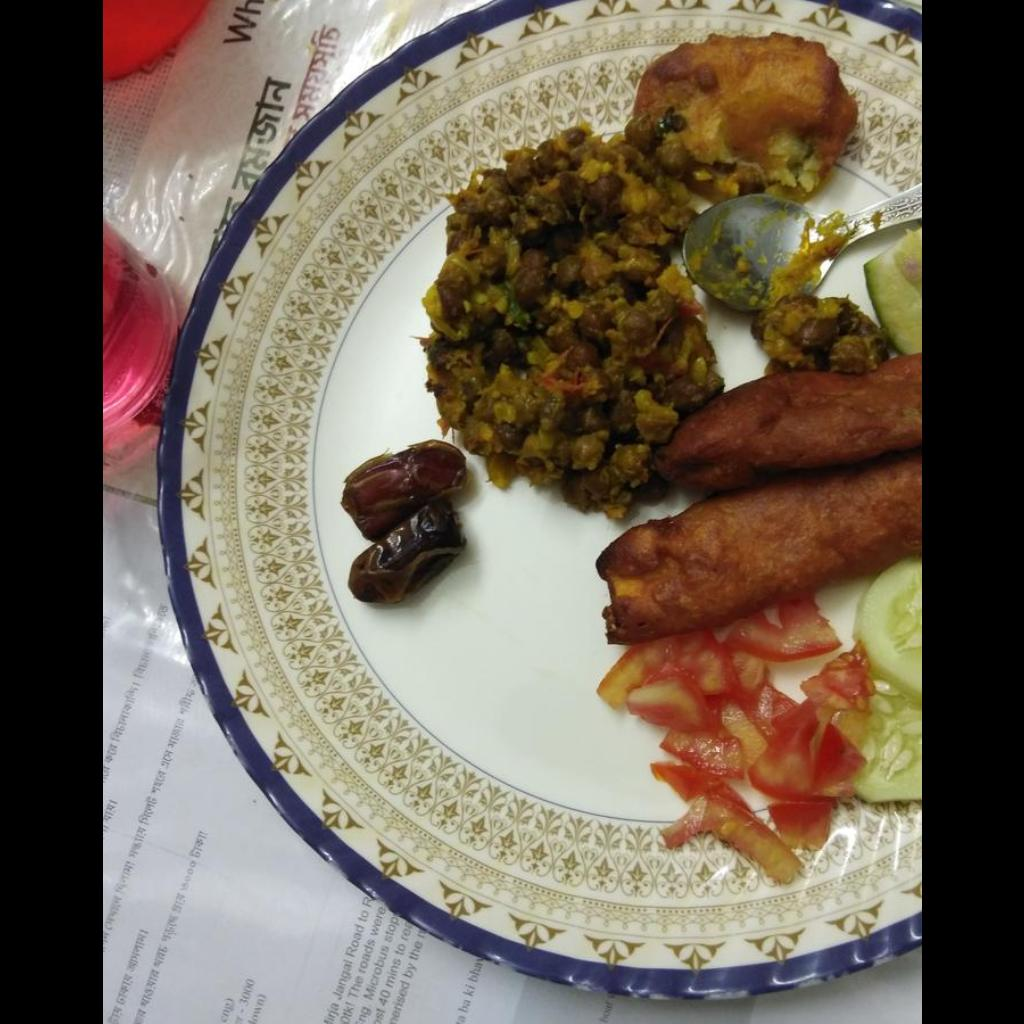beguni: (599, 349, 920, 635)
chola: (429, 131, 712, 511)
chop-alu: (631, 41, 846, 190)
cucumber: (854, 560, 920, 802)
dates: (343, 449, 461, 589)
lemon: (863, 229, 920, 354)
tomato: (597, 602, 872, 882)
